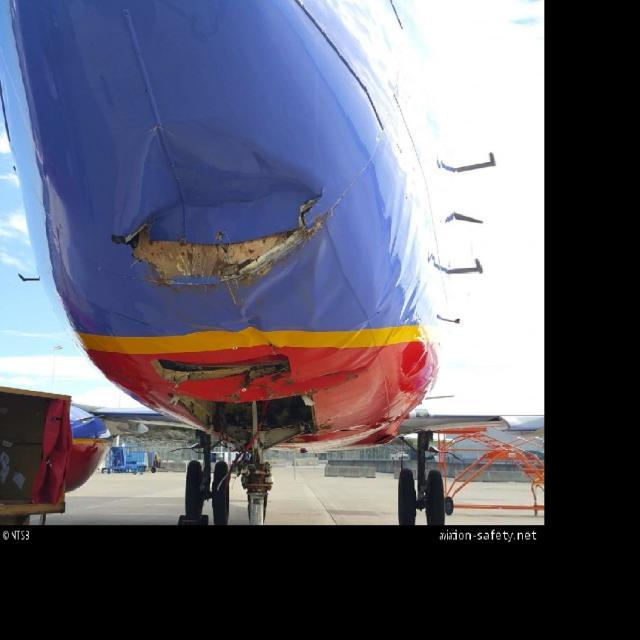dent: (121, 128, 327, 234), (239, 261, 298, 316)
